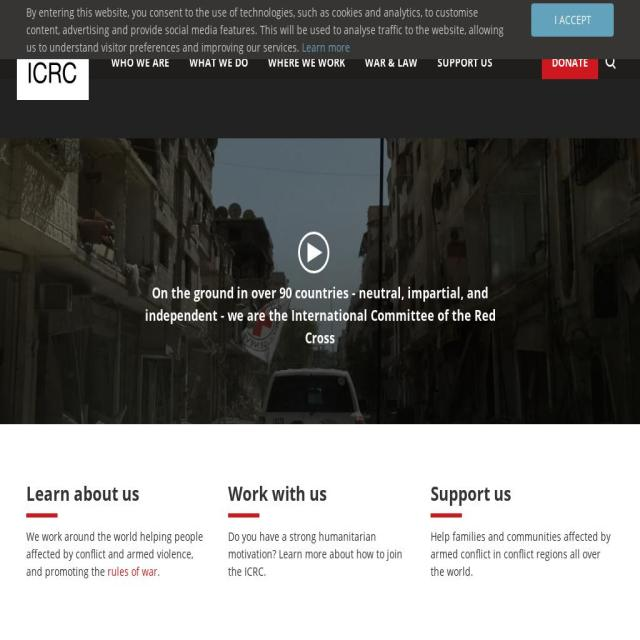button: (17, 0, 89, 100), (258, 46, 355, 79), (531, 3, 614, 37), (102, 46, 180, 79), (180, 46, 258, 79), (428, 46, 502, 79), (355, 46, 427, 79), (542, 46, 598, 79), (492, 6, 560, 22), (361, 6, 428, 22), (598, 46, 623, 79), (442, 6, 478, 22)
heading: (103, 25, 618, 44)
image: (0, 42, 640, 521), (24, 8, 82, 84), (228, 514, 260, 518), (430, 514, 462, 518), (27, 514, 58, 518)
link: (27, 482, 140, 581), (228, 482, 328, 581), (430, 482, 511, 581), (108, 563, 158, 580), (302, 39, 350, 55)
text: (132, 281, 508, 349), (26, 4, 504, 55), (228, 527, 412, 581), (430, 527, 614, 581), (26, 528, 203, 580), (580, 8, 616, 20), (158, 563, 160, 580)
